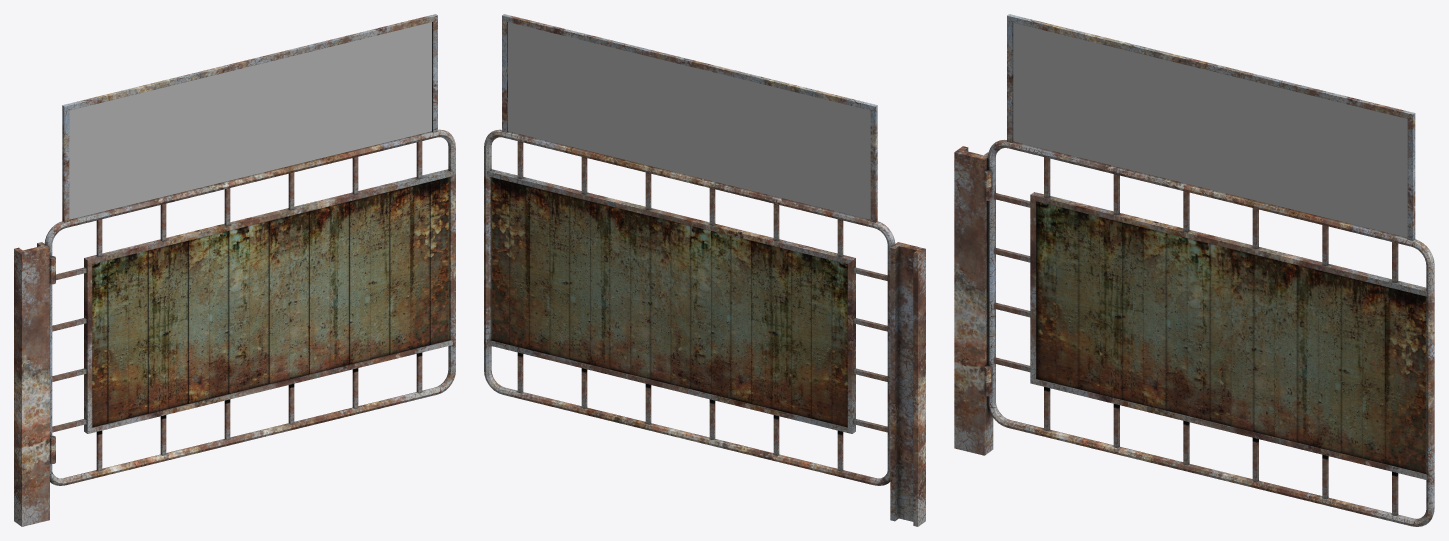
File: Gate_L.FBX
3 views of the same model, side by side, from view 1: azimuth 30°, elevation 25°; view 2: azimuth 150°, elevation 25°; view 3: azimuth 330°, elevation 25° (orthographic). The views are drawn at different scales.
Visible parts, largest first — view 1: Line003, Plane004; view 2: Line003, Plane004; view 3: Line003, Plane004.
Boxes of the visible parts, x1=… form: Line003: x1=14, y1=14, x2=455, y2=526; Plane004: x1=69, y1=22, x2=431, y2=219; Line003: x1=484, y1=14, x2=925, y2=526; Plane004: x1=508, y1=22, x2=870, y2=219; Line003: x1=954, y1=14, x2=1434, y2=526; Plane004: x1=1013, y1=23, x2=1407, y2=237.
Size of the model in its own units: 7476 by 6647 by 276.
